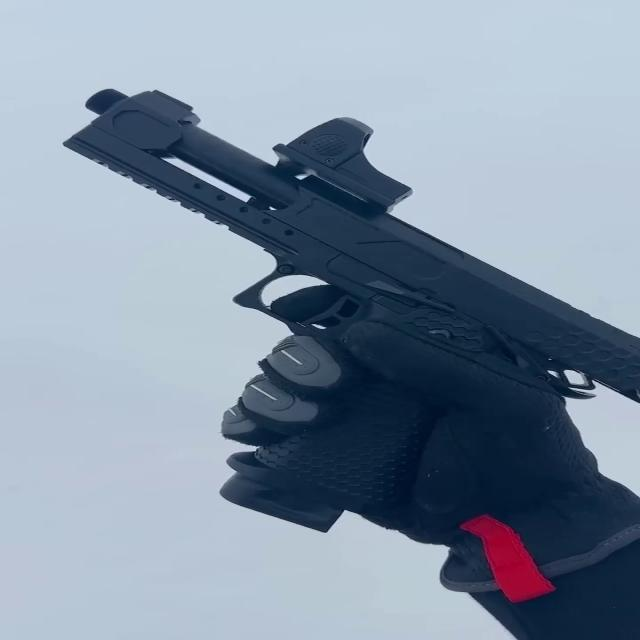Handgun: (48, 79, 602, 528)
